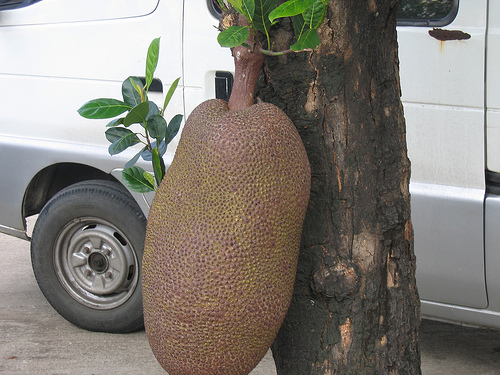jackfruit: (140, 98, 312, 374)
